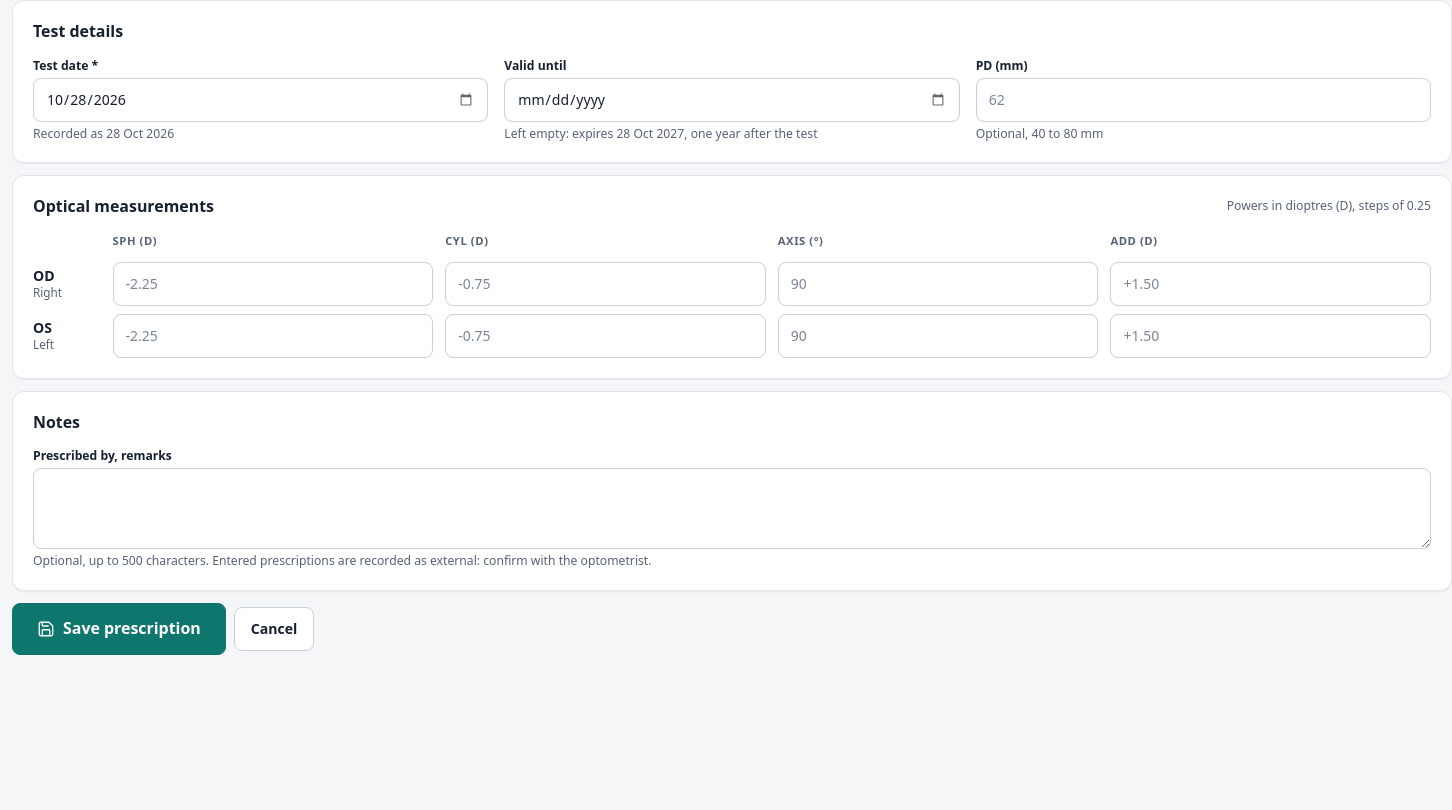
Test: PrescriptionForm › requires SPH, and an axis wherever there is a cylinder, naming the eye
The image size is (1452, 810).
In the field named "Left eye (OS) CYL": {"x": 605, "y": 336} 445,314 -> 766,358, type "-1.25"
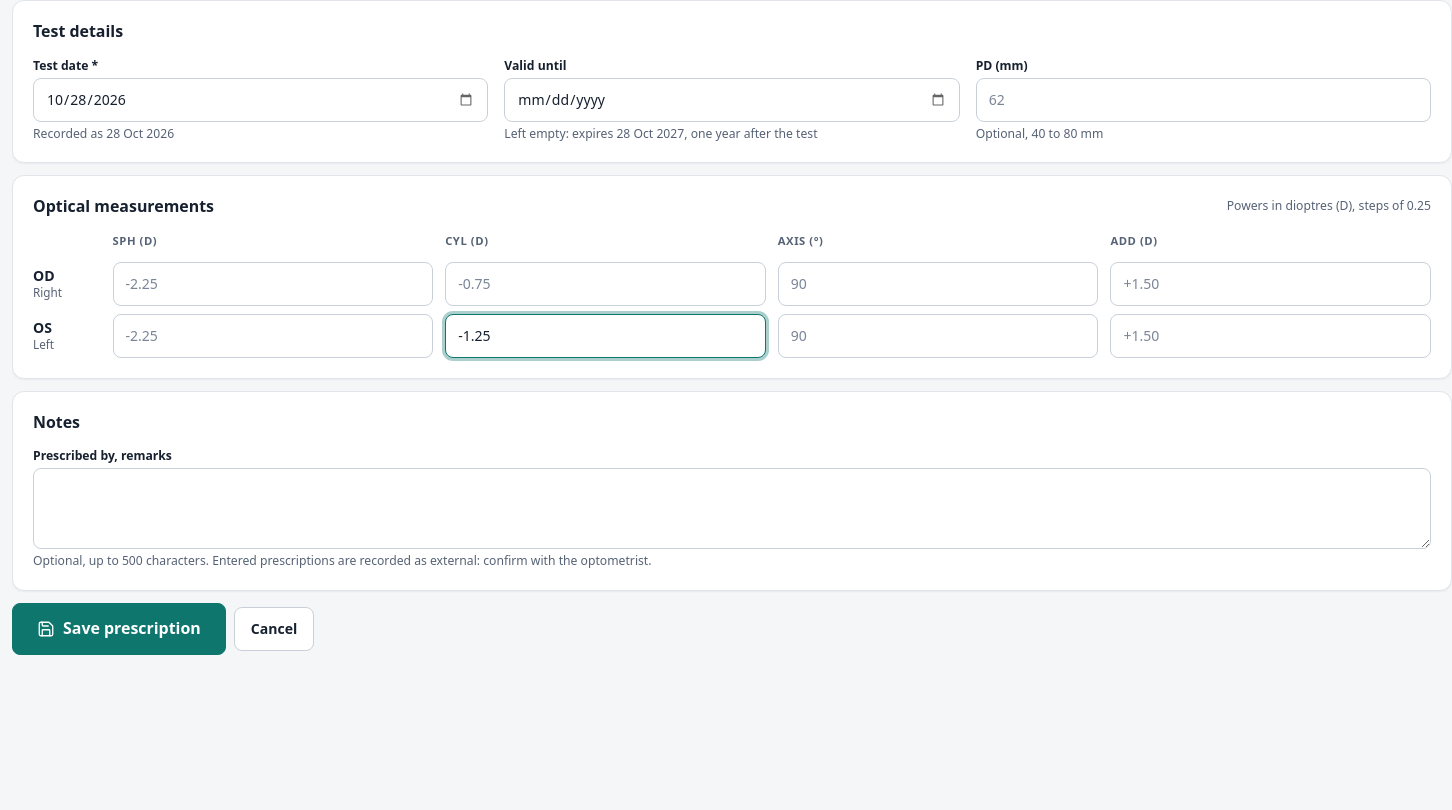
Click the button "Save prescription": {"x": 119, "y": 629} 12,603 -> 226,655
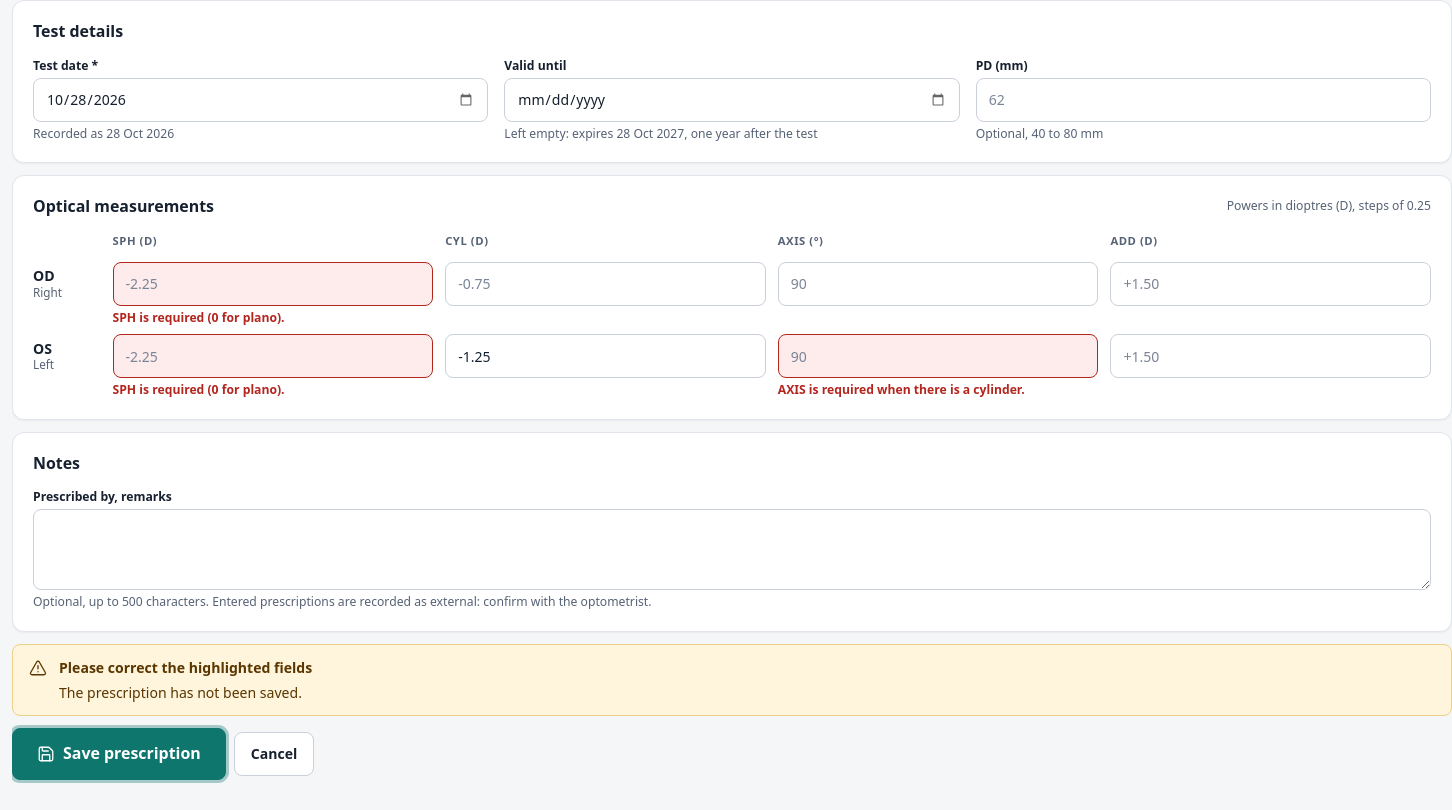
Expected: the text "SPH is required (0 for plano)." is shown 2 times, 112,309 -> 285,326; 112,381 -> 285,398
Expected: the text "AXIS is required when there is a cylinder." is shown, 778,381 -> 1025,398
Expected: the text "Please correct the highlighted fields" is shown, 59,657 -> 312,678
